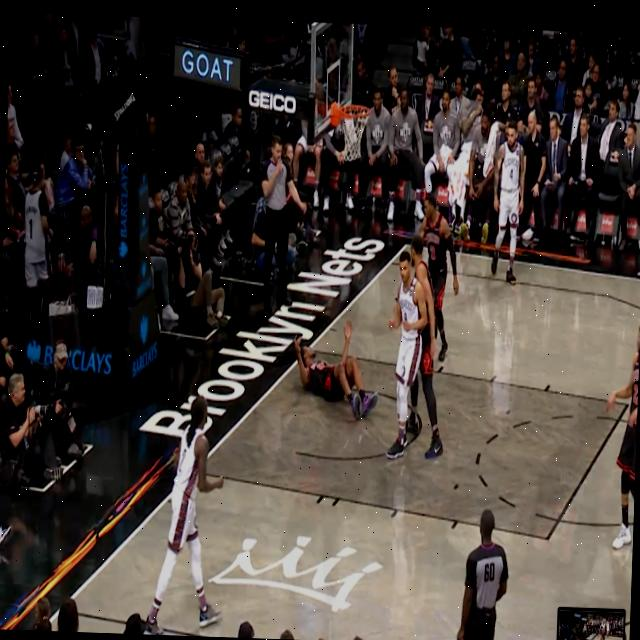foul: (268, 228, 458, 475)
